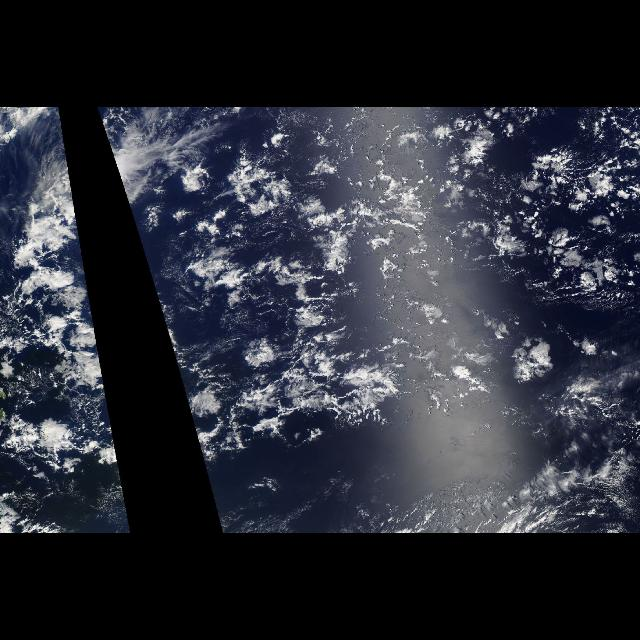Flower: (218, 160, 640, 398)
